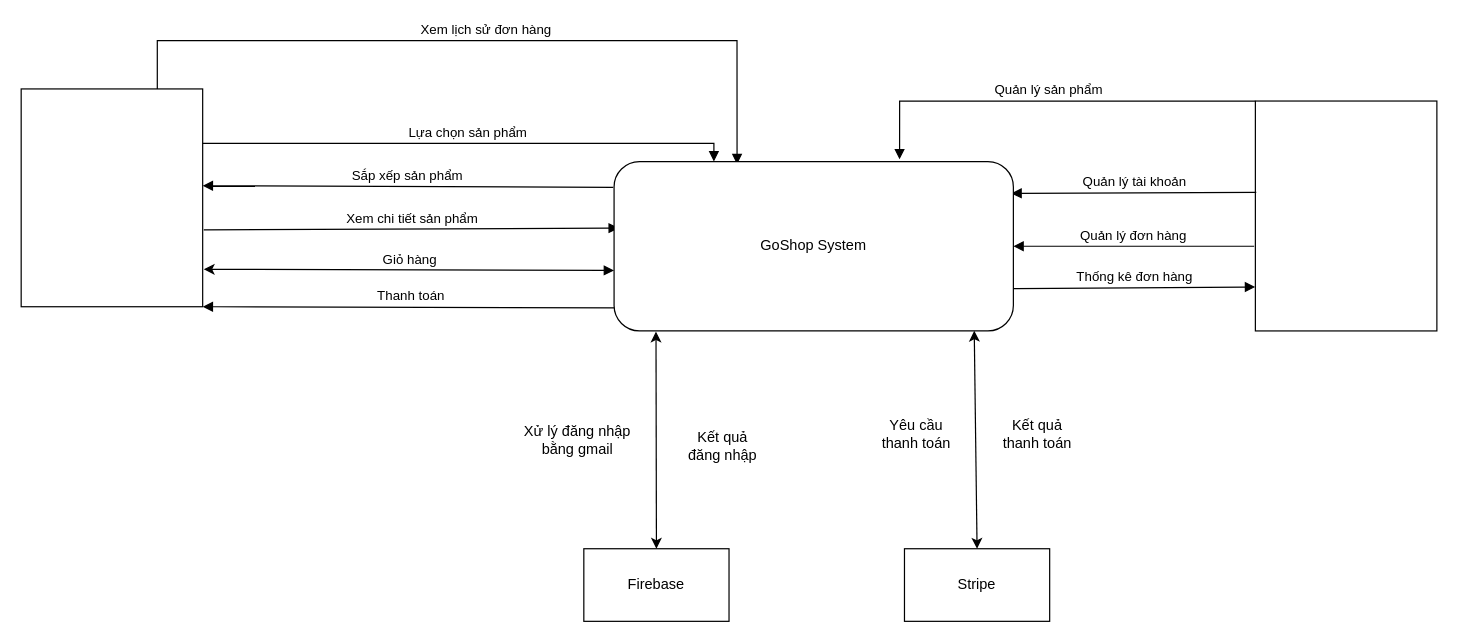
Image size: 1458x643. Some labels were removed from this diagram. The box of each missing label's shape, as (x1, y1, x2, y2) in pixels:
Người mua: (20, 88, 203, 307)
Người quản trị: (1254, 100, 1437, 331)
